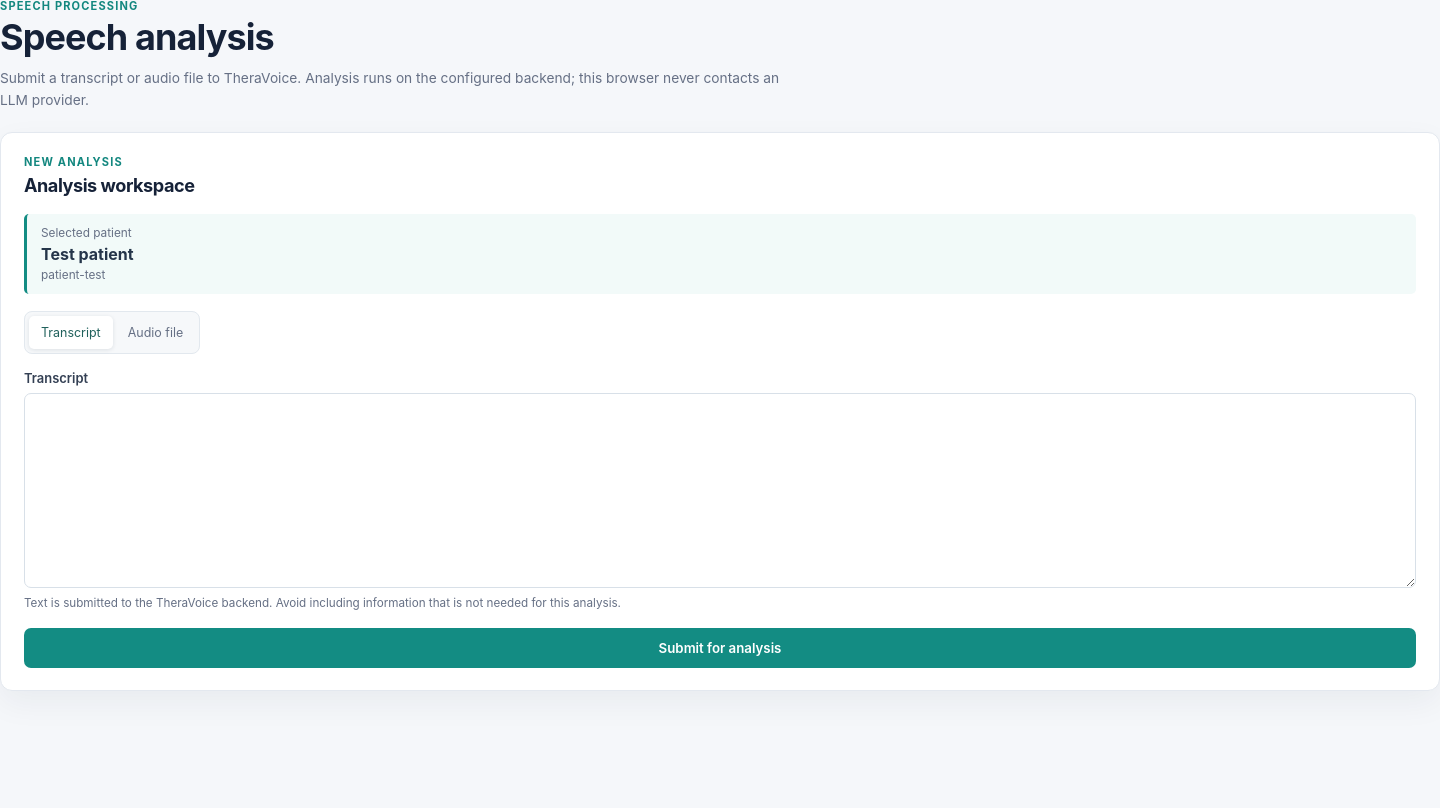
Test case: validates consent, submits a transcript and renders backend values including unavailable metrics
In the text box labelled "Transcript": (720, 491) [24,393,1416,588], type "A sample transcript."
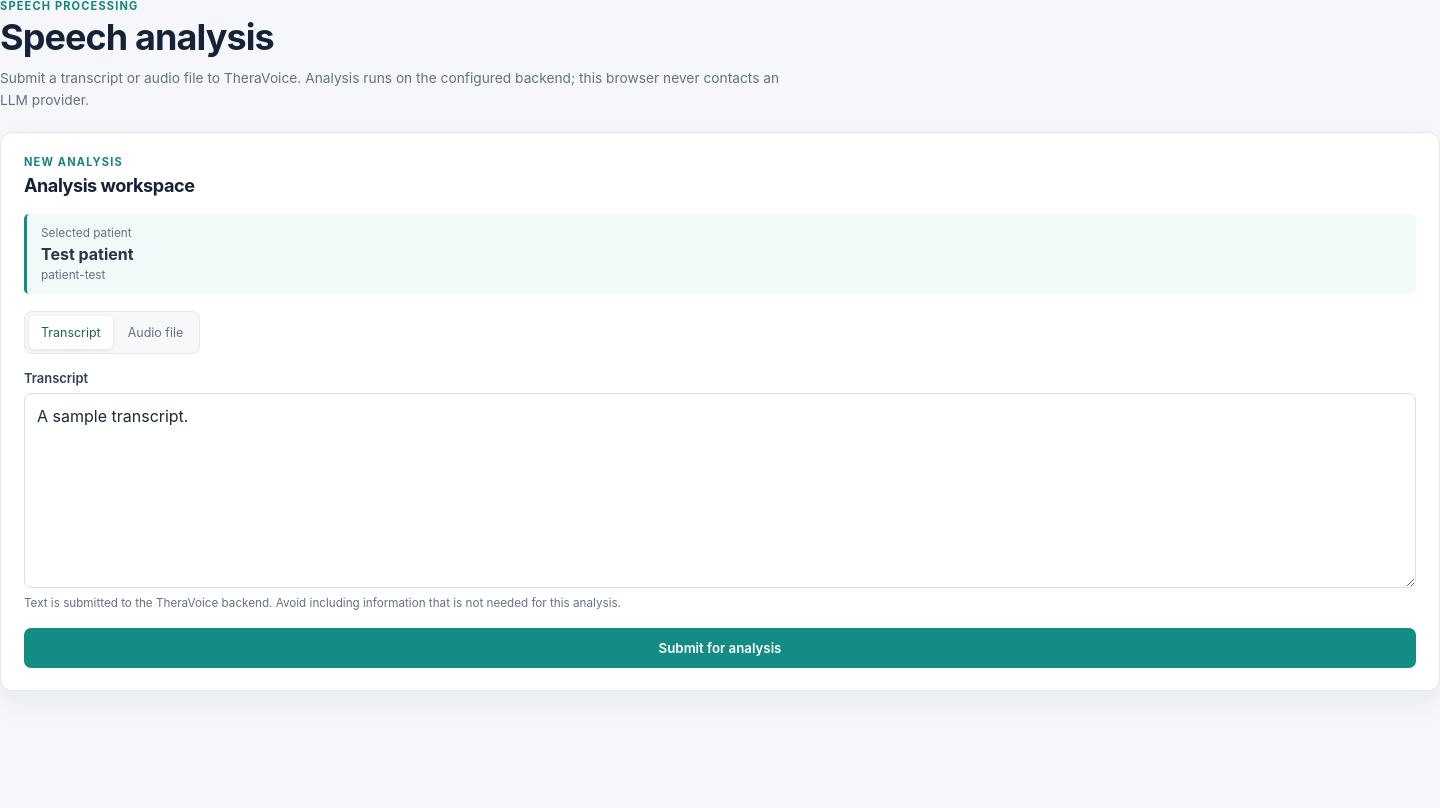
Click the button "Submit for analysis": (720, 648) [24,628,1416,668]
(page scrolled)
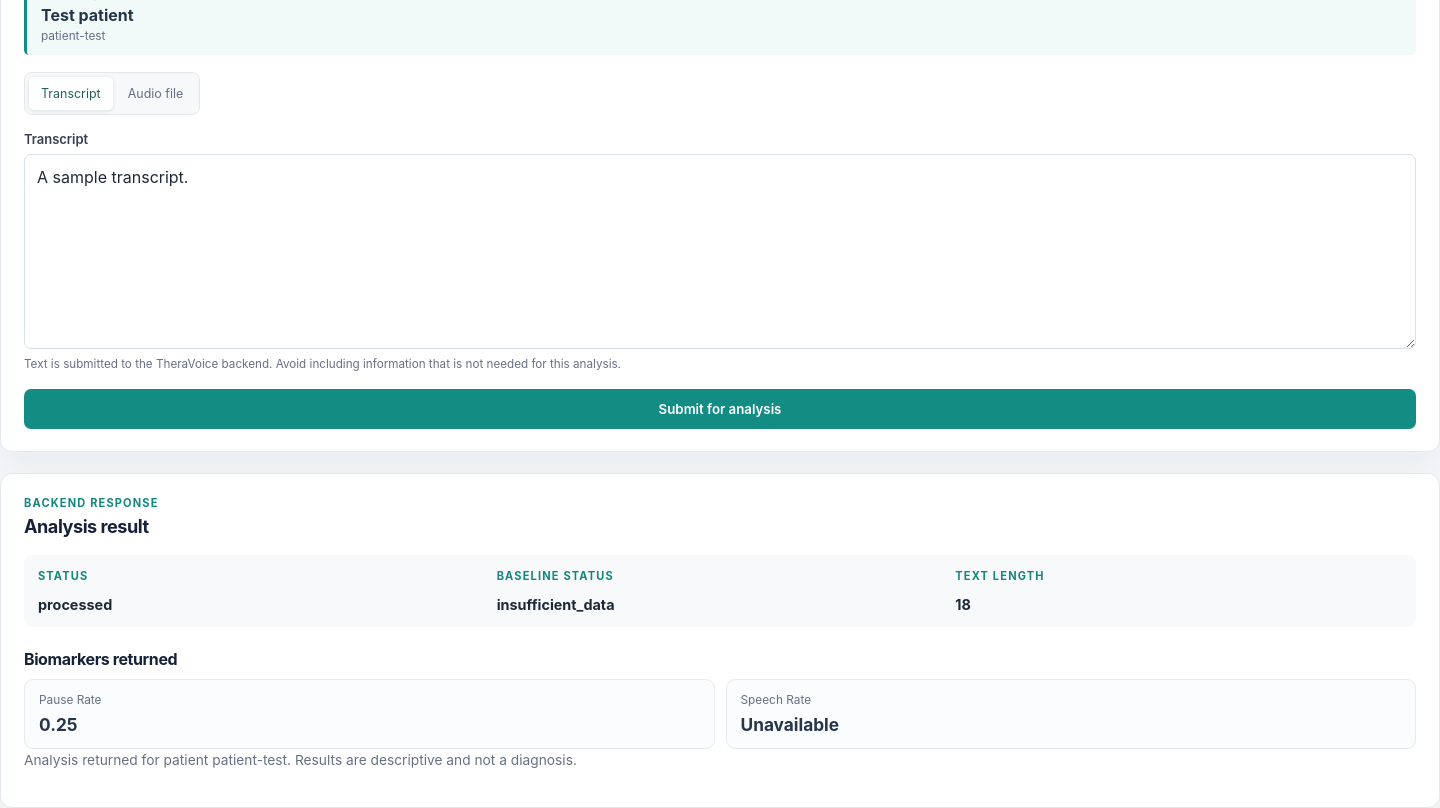
Result: the heading "Analysis result" is shown at [24,515,159,537]
Result: the text "0.25" is shown at [39,714,78,735]
Result: the text "Unavailable" is shown at [740,714,839,735]
